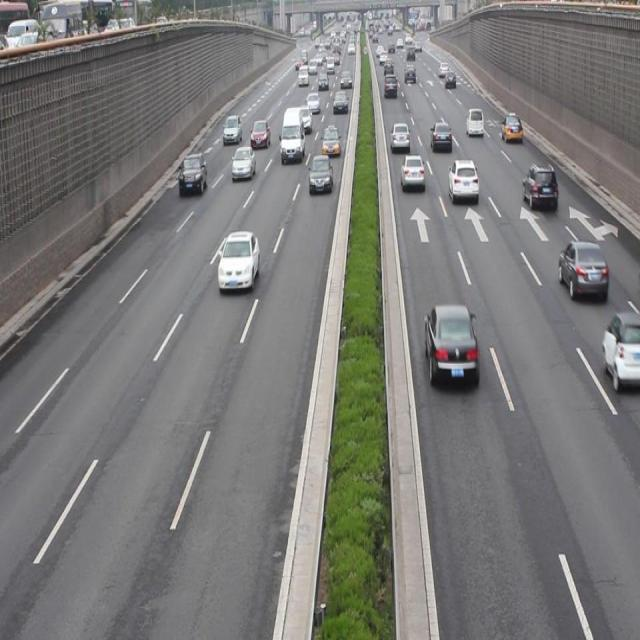car: (424, 304, 477, 388), (557, 239, 608, 300), (600, 308, 640, 384), (218, 231, 259, 290), (521, 164, 557, 212), (447, 158, 478, 204), (179, 153, 207, 193), (400, 153, 425, 191), (308, 156, 332, 194), (231, 144, 255, 181), (429, 118, 452, 153), (501, 112, 522, 144), (249, 116, 270, 148), (389, 122, 409, 154), (320, 125, 340, 157), (465, 107, 485, 137), (222, 114, 241, 143)
truck: (279, 106, 305, 162)
